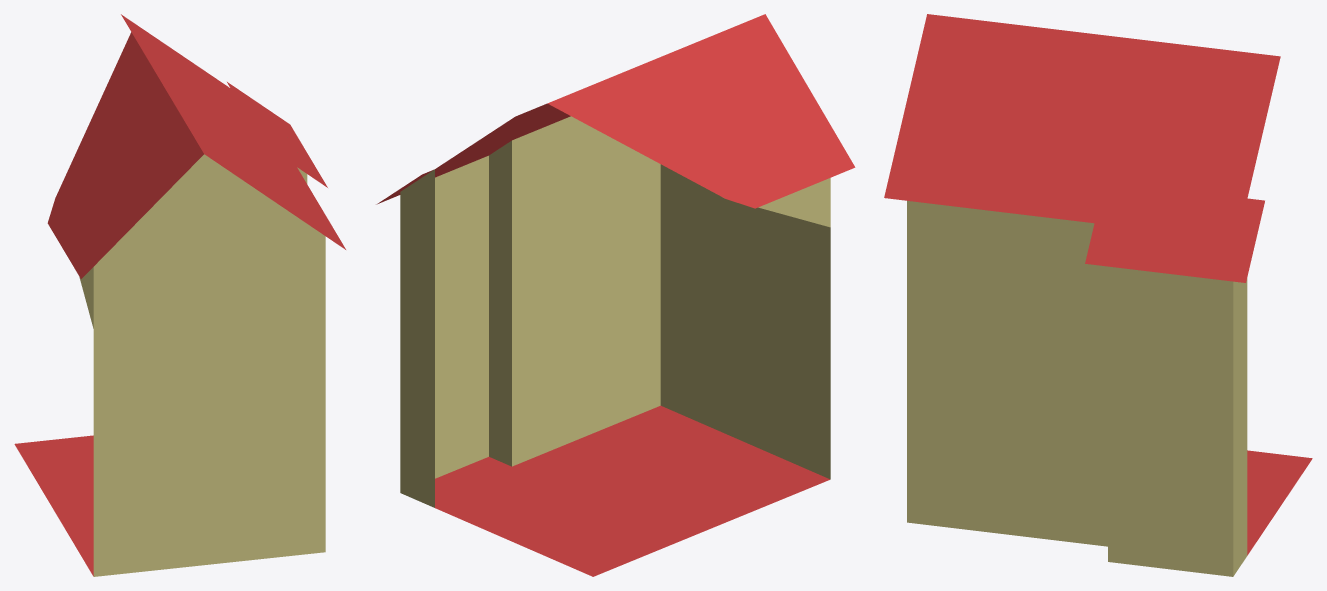
3 renders of one model, left to right at view 1: azimuth 30°, elevation 25°; view 2: azimuth 150°, elevation 25°; view 3: azimuth 270°, elevation 25°, orthographic. The views are drawn at different scales.
Bounding box in the file's own units: 11.37 × 11.56 × 13.38.
